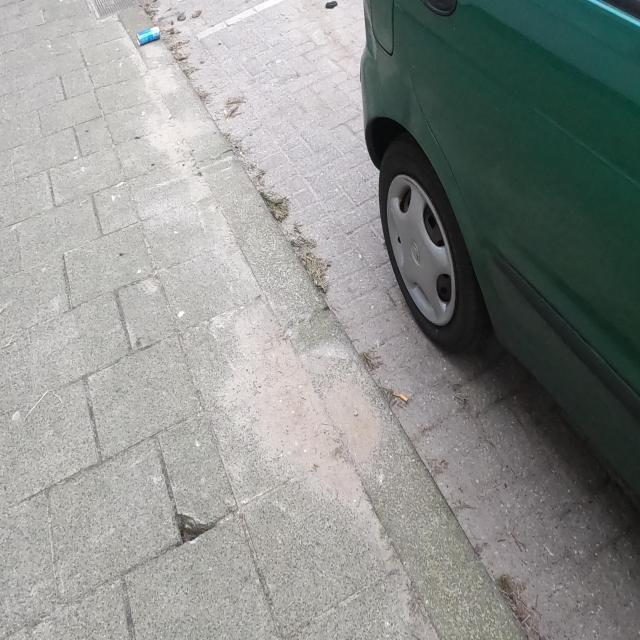Can-Metal: (135, 25, 161, 47)
